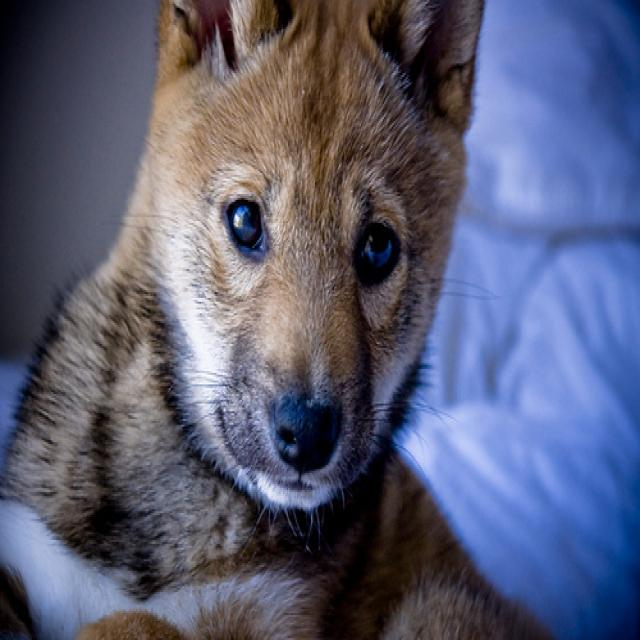dog-shiba_inu: (1, 2, 556, 636)
